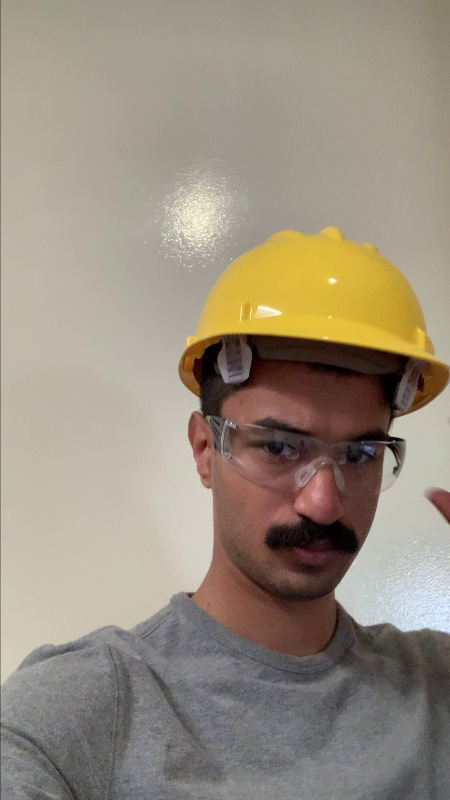glasses: (217, 419, 404, 493)
helmet: (192, 222, 432, 362)
